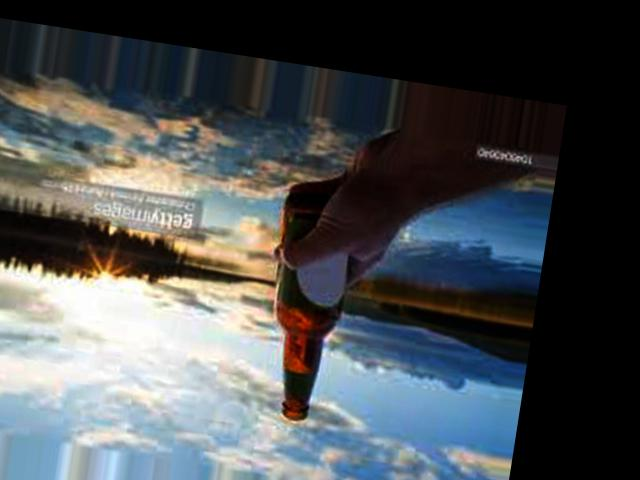beer: (250, 192, 360, 425)
